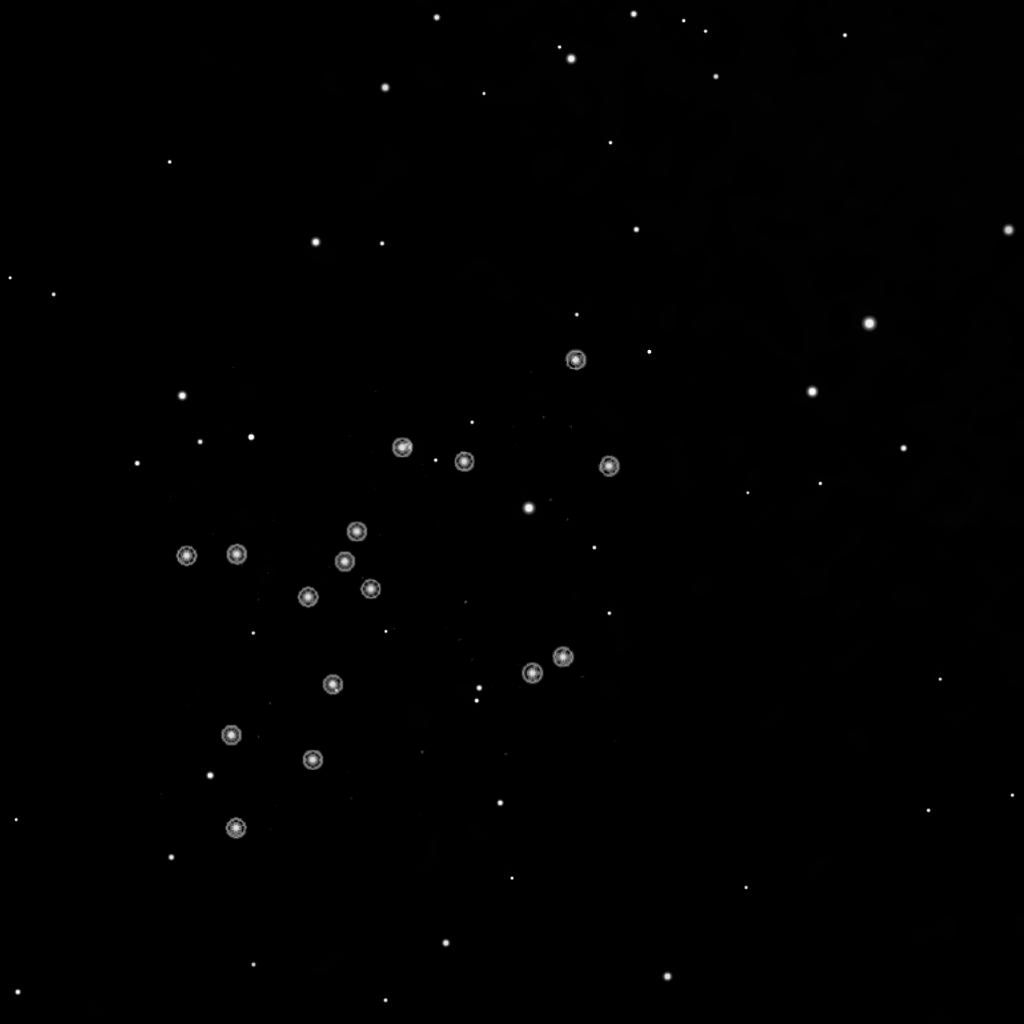canis_major: (291, 431, 479, 611)
